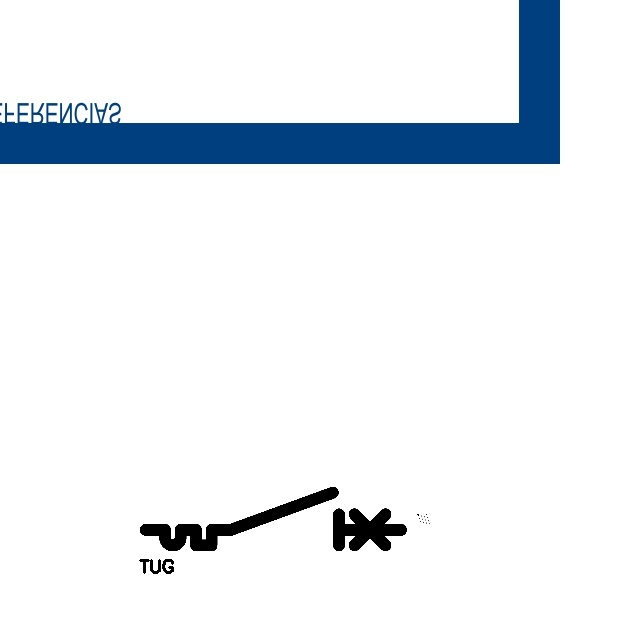interruptor_termomagnetico: (139, 486, 407, 552)
